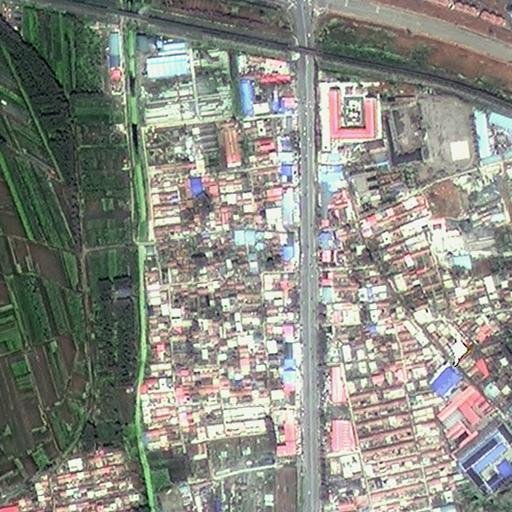school: (379, 85, 478, 182)
